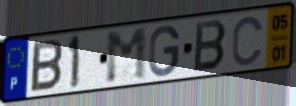1: (65, 33, 82, 92)
B: (28, 38, 64, 95), (192, 19, 229, 74)
C: (230, 14, 265, 68)
G: (147, 23, 182, 79)
M: (104, 25, 149, 87)
